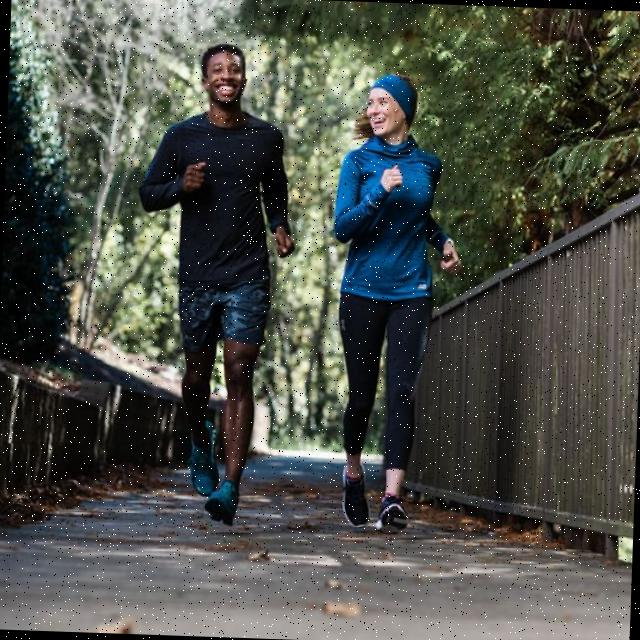Person: (128, 40, 302, 527), (325, 73, 467, 530)
